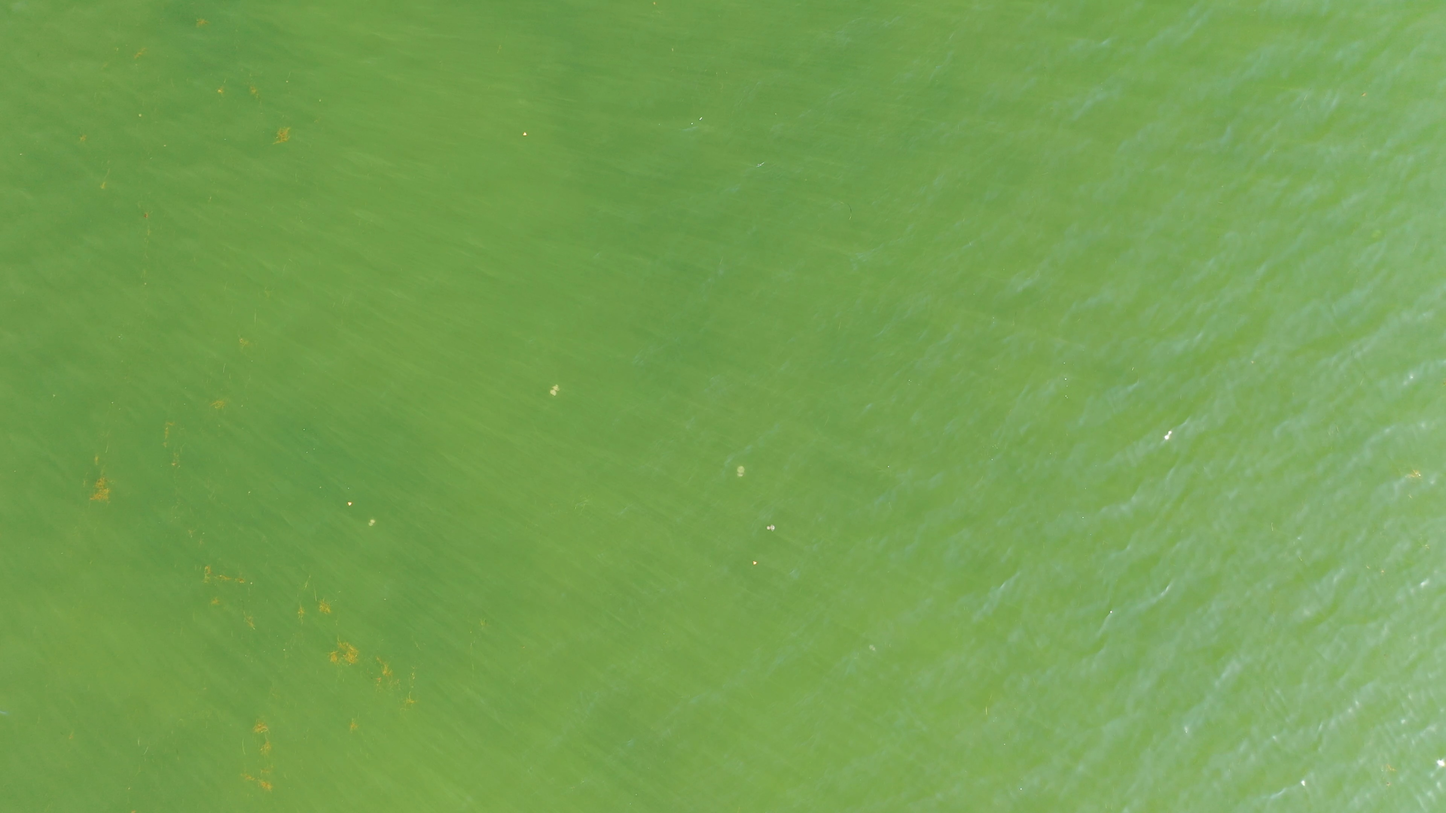meduse: (735, 466, 746, 477), (550, 386, 558, 396), (766, 524, 775, 531), (869, 644, 876, 651), (369, 519, 376, 526)
